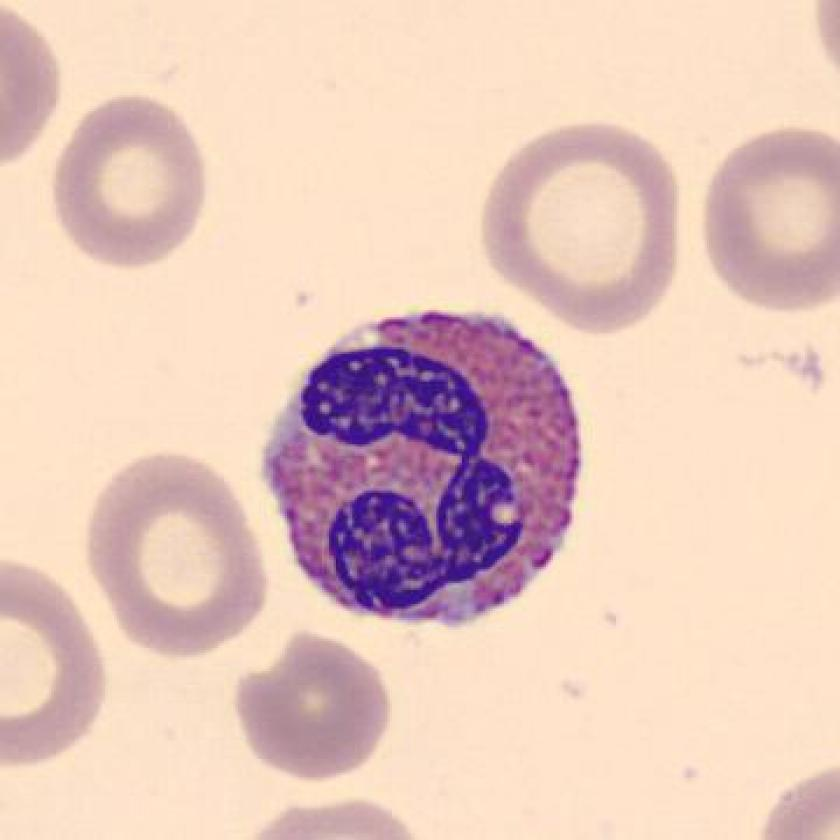eosinophil: (255, 293, 601, 640)
